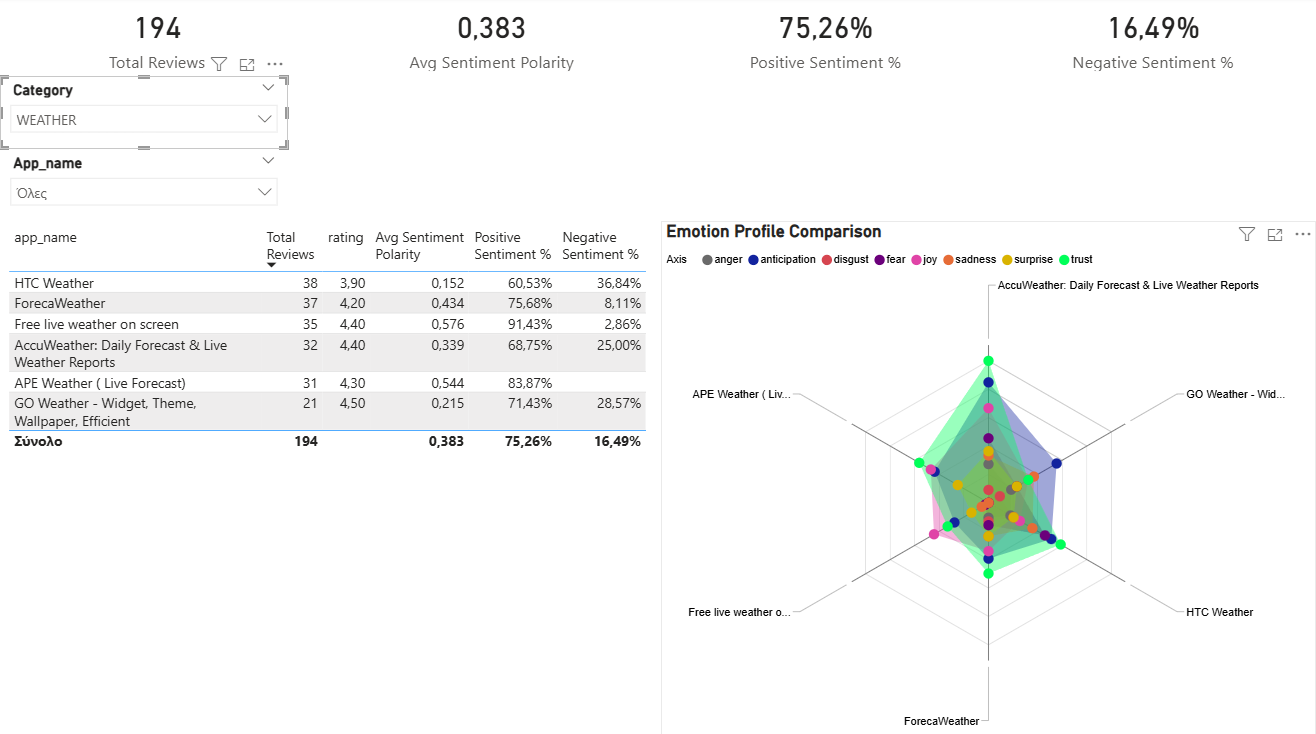

What the dashboard file says about the page in this screenshot:
{"tool":"powerbi","page":{"name":"Comparative Analytics","canvas":[1280,720],"ordinal":3},"visuals":[{"type":"slicer","fields":{"Values":["playstore_dw dim_apps.category"]},"box":[0,76.8,280.1,71],"z":0},{"type":"card","fields":{"Values":["_Measures.Total Reviews"]},"box":[0,0,305.7,77.1],"z":1000},{"type":"card","fields":{"Values":["_Measures.Avg Sentiment Polarity"]},"box":[315.7,0,324.3,77.1],"z":2000},{"type":"card","fields":{"Values":["_Measures.Positive Sentiment %"]},"box":[642.9,0,320,77.1],"z":3000},{"type":"card","fields":{"Values":["_Measures.Negative Sentiment %"]},"box":[962.9,0,317.1,77.1],"z":4000},{"type":"slicer","fields":{"Values":["playstore_dw dim_apps.app_name"]},"box":[0,147.8,280.1,70],"z":5000},{"type":"tableEx","fields":{"Values":["playstore_dw dim_apps.app_name","_Measures.Total Reviews","playstore_dw dim_apps.rating","_Measures.Avg Sentiment Polarity","_Measures.Positive Sentiment %","_Measures.Negative Sentiment %"]},"box":[2.9,217.9,640,501.9],"z":6000},{"type":"RadarChart1446119667547","title":"Emotion Profile Comparison","fields":{"Category":["playstore_dw dim_apps.app_name"],"Y":["Avg(playstore_dw fact_reviews.anger)","Avg(playstore_dw fact_reviews.anticipation)","Avg(playstore_dw fact_reviews.disgust)","Avg(playstore_dw fact_reviews.fear)","Avg(playstore_dw fact_reviews.joy)","Avg(playstore_dw fact_reviews.sadness)","Avg(playstore_dw fact_reviews.surprise)","Avg(playstore_dw fact_reviews.trust)"]},"box":[642.9,217.9,637.1,501.9],"z":7000}]}

Visuals, with their boxes in screenshot pixels (x1, y1, x2, y2), scaled from the page's 1280x720 canvas onto the 1316x734 screenshot:
slicer - playstore_dw dim_apps.category: {"x1": 0, "y1": 78, "x2": 288, "y2": 151}
card - _Measures.Total Reviews: {"x1": 0, "y1": 0, "x2": 314, "y2": 79}
card - _Measures.Avg Sentiment Polarity: {"x1": 325, "y1": 0, "x2": 658, "y2": 79}
card - _Measures.Positive Sentiment %: {"x1": 661, "y1": 0, "x2": 990, "y2": 79}
card - _Measures.Negative Sentiment %: {"x1": 990, "y1": 0, "x2": 1315, "y2": 79}
slicer - playstore_dw dim_apps.app_name: {"x1": 0, "y1": 151, "x2": 288, "y2": 222}
tableEx - playstore_dw dim_apps.app_name x _Measures.Total Reviews: {"x1": 3, "y1": 222, "x2": 661, "y2": 733}
"Emotion Profile Comparison" RadarChart1446119667547: {"x1": 661, "y1": 222, "x2": 1315, "y2": 733}
